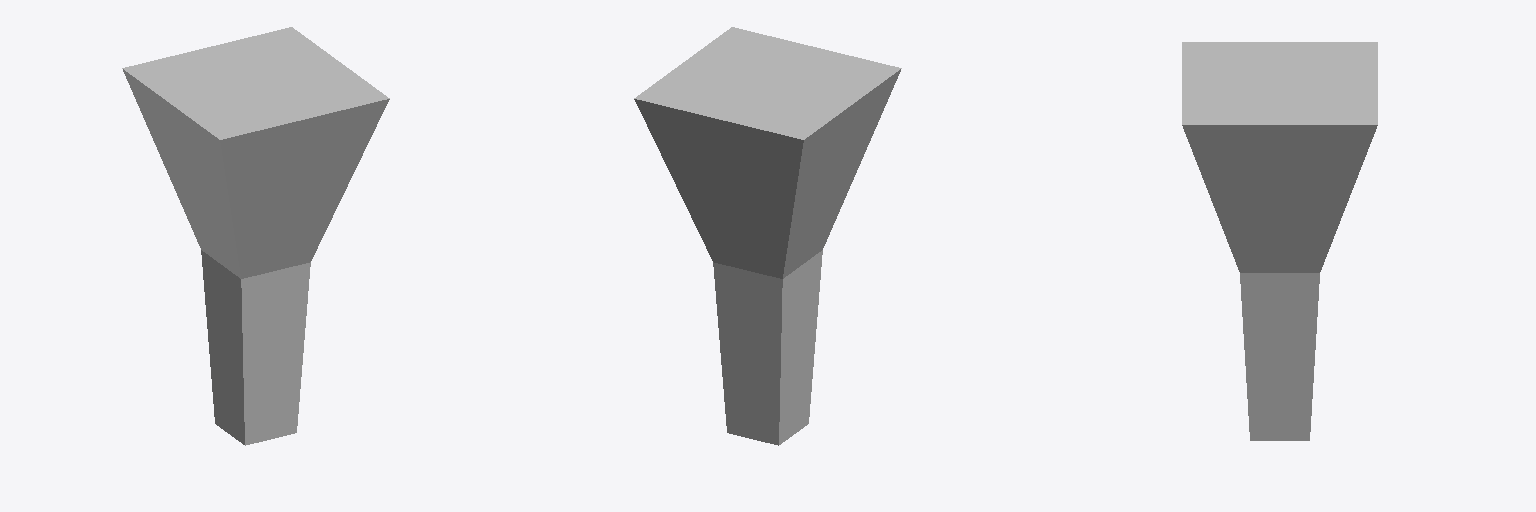
Rendered from Overhang5.obj.
3 renders of one model, left to right at view 1: azimuth 30°, elevation 25°; view 2: azimuth 150°, elevation 25°; view 3: azimuth 270°, elevation 25°, orthographic.
Visible parts, largest first — view 1: Overhang5; view 2: Overhang5; view 3: Overhang5.
Part boxes in pixels (left/top/right/bottom): Overhang5: left=122, top=27, right=389, bottom=445; Overhang5: left=634, top=27, right=901, bottom=445; Overhang5: left=1182, top=42, right=1377, bottom=440.
Size of the model in its own units: 3.41 by 6.61 by 3.41.